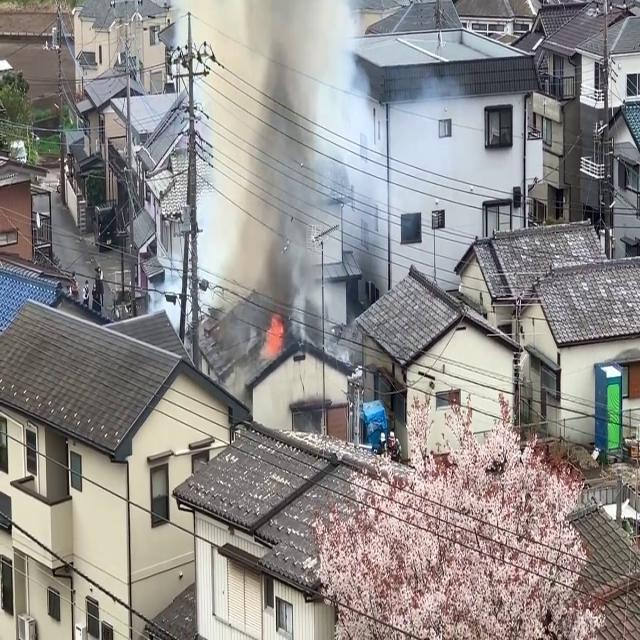Fire: (260, 305, 288, 365)
Smoke: (210, 0, 386, 356)
